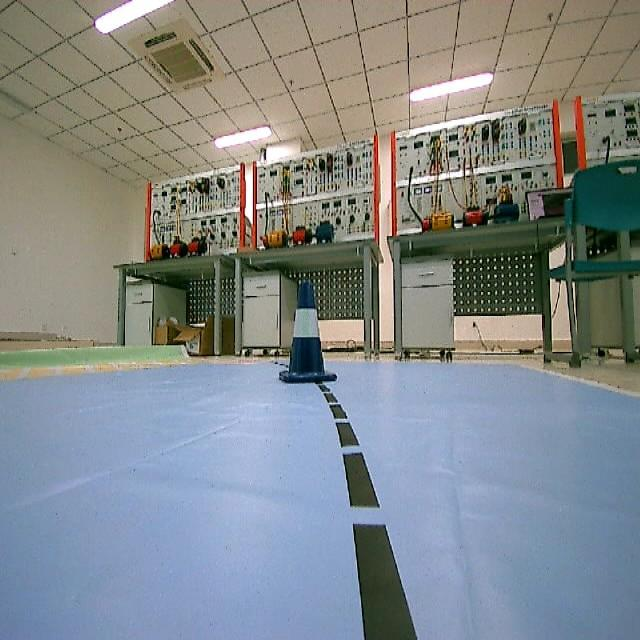obstacle: (274, 274, 344, 392)
